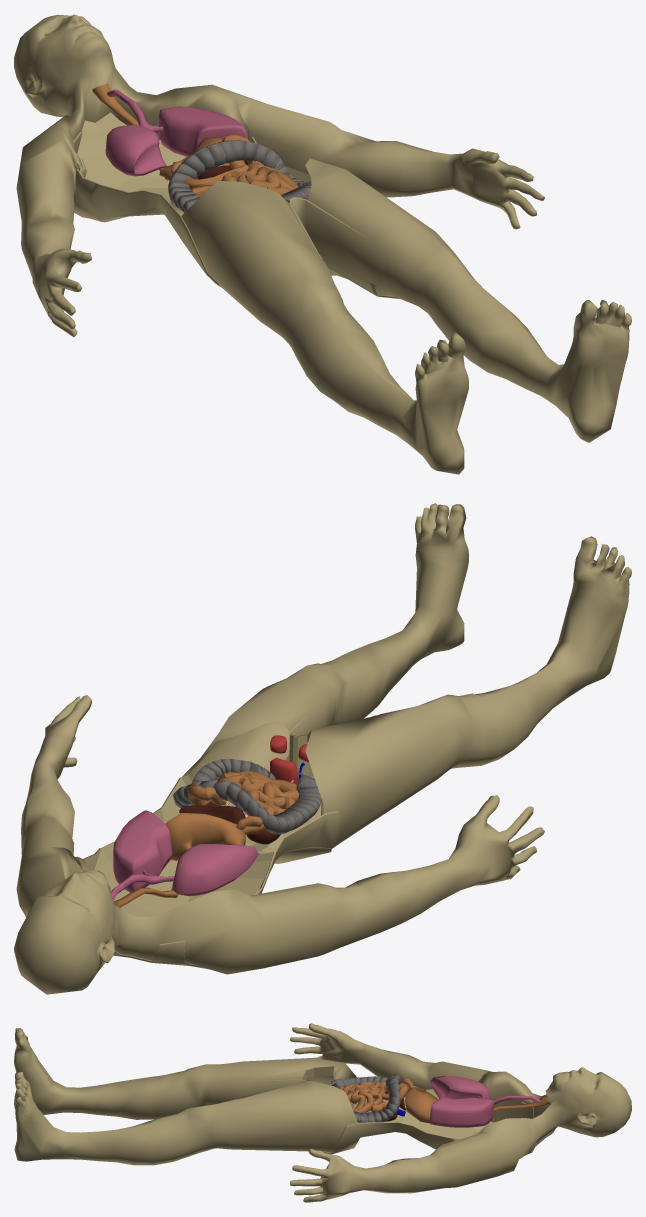
Rendered from human body in.fbx.
The picture shows the model from 3 angles, top to bottom: view 1: azimuth 30°, elevation 25°; view 2: azimuth 150°, elevation 25°; view 3: azimuth 270°, elevation 25°; orthographic projection. The views are drawn at different scales.
Visible parts, largest first — view 1: polySurface1, pasted__pCube3, pasted__polySurface5, pasted__pCylinder1, pasted__polySurface8; view 2: polySurface1, pasted__pCube3, pasted__polySurface5, pasted__polySurface8, pasted__pCylinder1, pasted__polySurface3; view 3: polySurface1, pasted__pCube3, pasted__polySurface5, pasted__pCylinder1, pasted__polySurface8.
Part boxes in pixels (x1,y1,x2,y2): polySurface1: [14, 14, 631, 474]; pasted__pCube3: [105, 89, 247, 176]; pasted__polySurface5: [168, 140, 311, 212]; pasted__pCylinder1: [185, 134, 298, 196]; pasted__polySurface8: [92, 83, 229, 180]; polySurface1: [14, 503, 631, 994]; pasted__pCube3: [111, 810, 258, 900]; pasted__polySurface5: [173, 758, 321, 834]; pasted__polySurface8: [113, 812, 245, 907]; pasted__pCylinder1: [188, 771, 299, 834]; pasted__polySurface3: [179, 805, 245, 824]; polySurface1: [14, 1023, 631, 1202]; pasted__pCube3: [429, 1076, 540, 1127]; pasted__polySurface5: [329, 1074, 401, 1122]; pasted__pCylinder1: [338, 1081, 408, 1112]; pasted__polySurface8: [405, 1087, 549, 1123].
Size of the model in its own units: 120 by 37.97 by 215.
